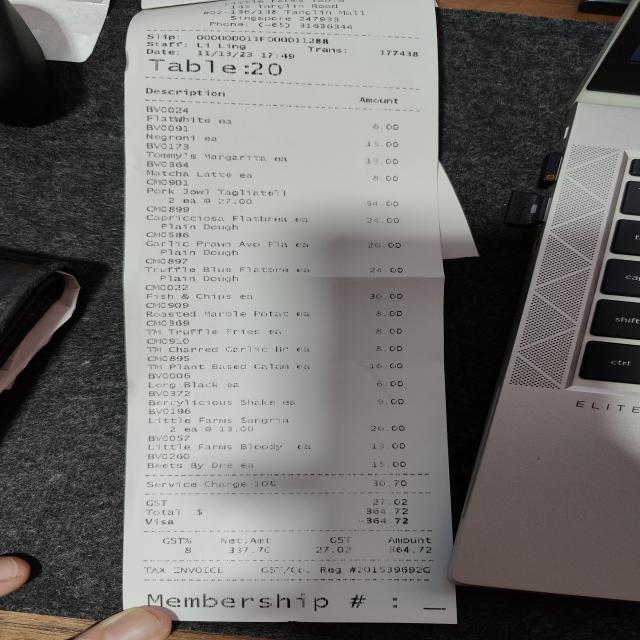bill_region: (132, 112, 418, 517)
